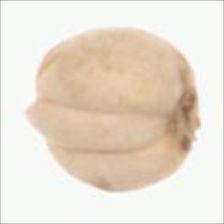L5: (19, 98, 171, 153), (169, 52, 203, 161)
L6: (22, 25, 203, 194)
